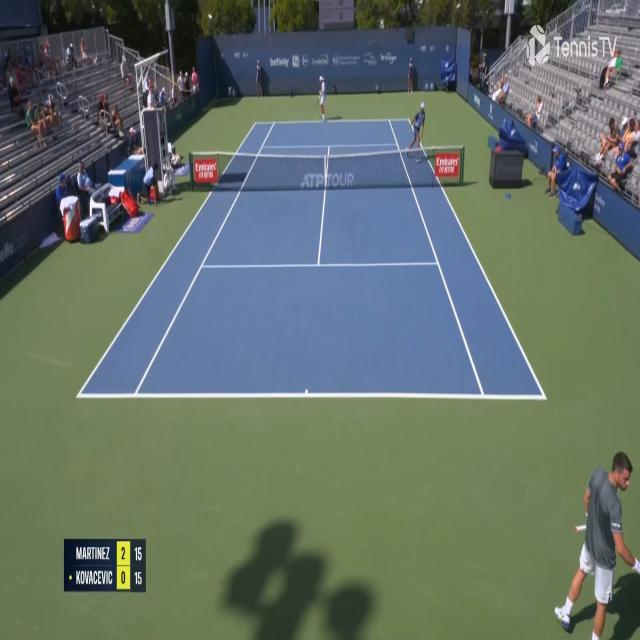tennis-player: (551, 434, 640, 639), (316, 74, 327, 123)
